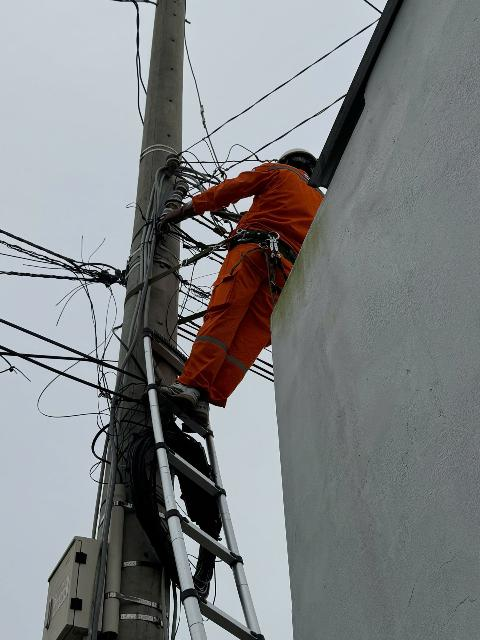gloves: (156, 199, 200, 242)
harness: (215, 212, 311, 288)
helmet: (268, 142, 326, 181)
shoes: (153, 375, 198, 408), (193, 392, 216, 442)
